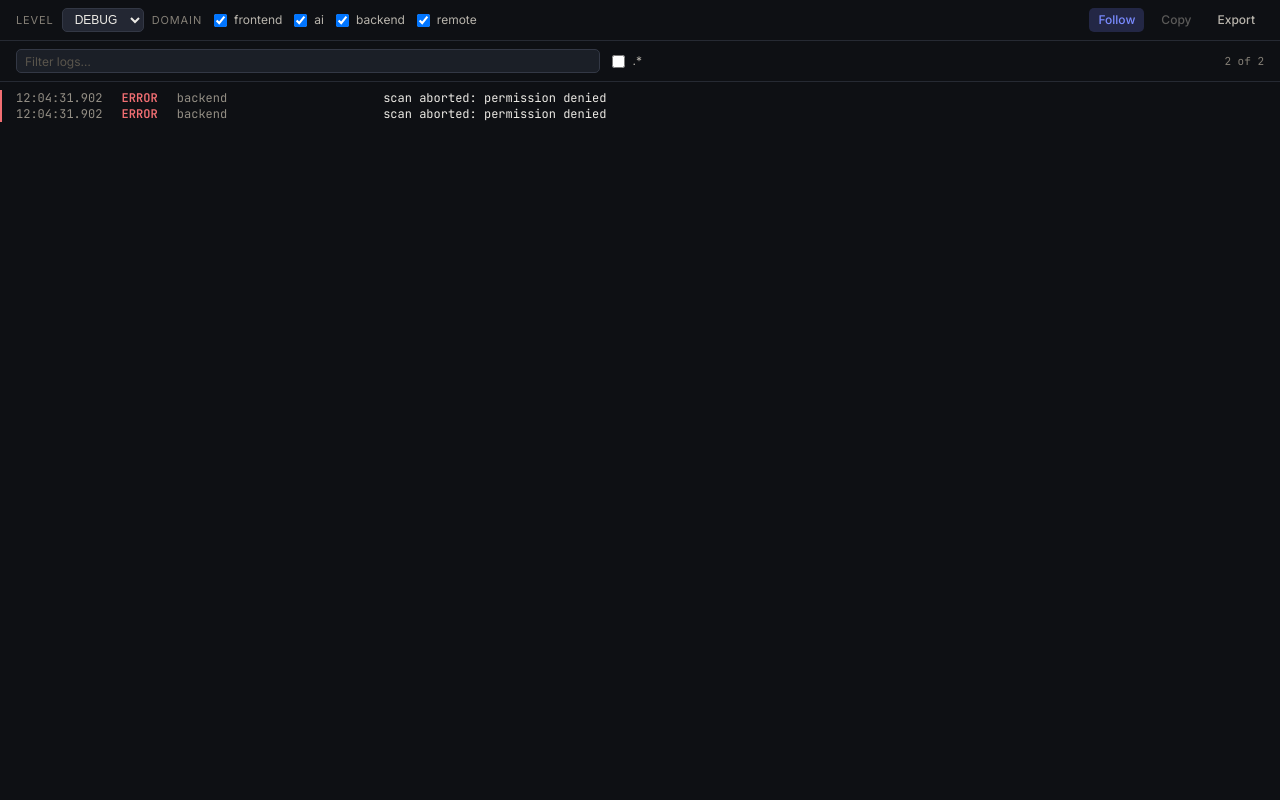
it: expanding a record (LOG-FR-04) › keeps any number of rows expanded at once, and collapses independently
Click the 1st button with class "logs__line" at (59, 98), box [0, 90, 1279, 106]
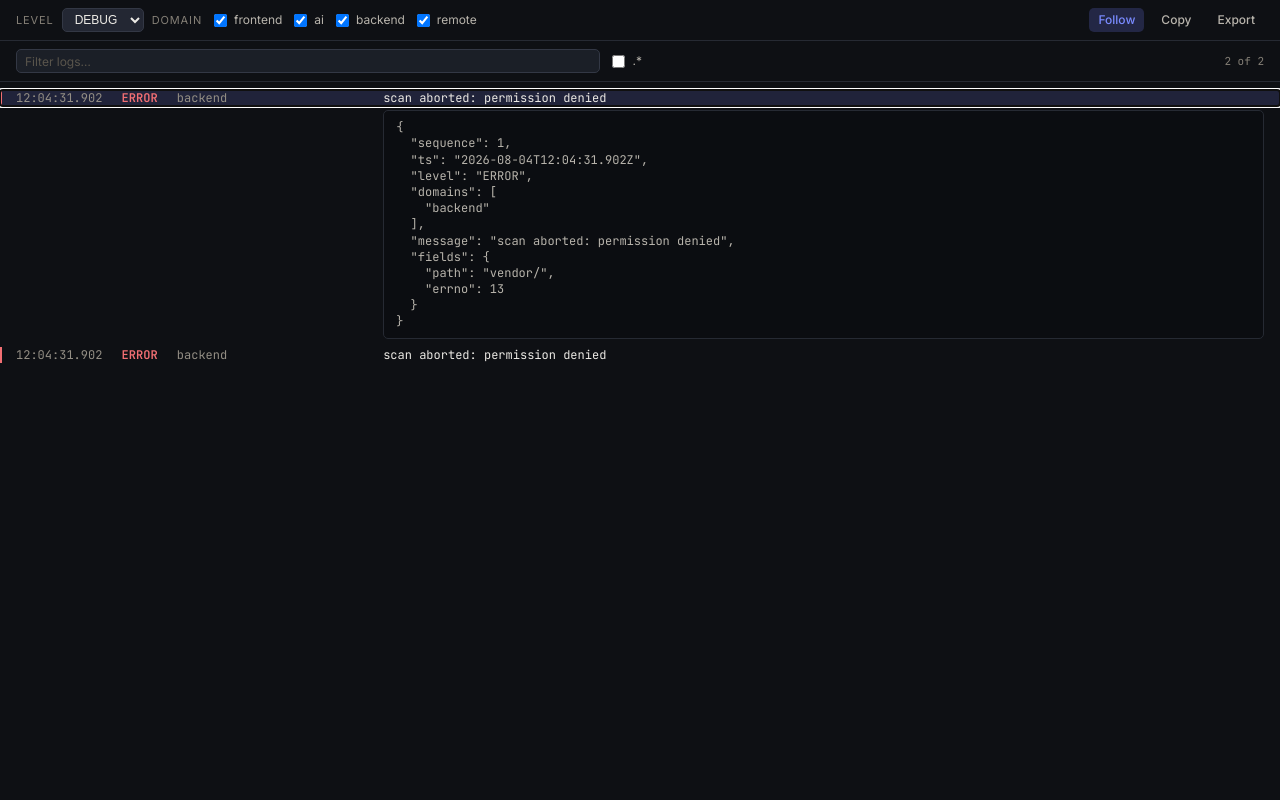
Click the 2nd button with class "logs__line" at (59, 355), box [0, 347, 1279, 363]
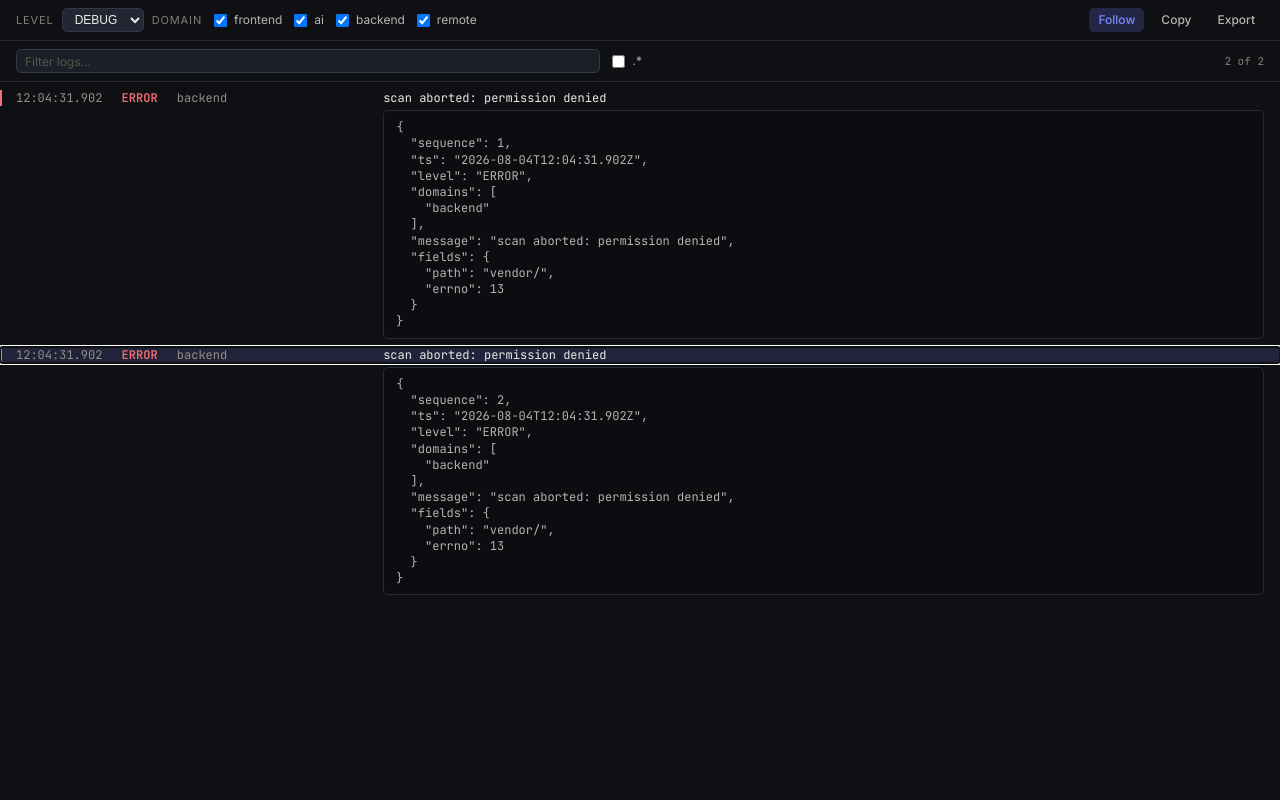
Check: the number of elements with test id "logs-json" is 2, box [383, 110, 1264, 339]; [383, 367, 1264, 595]
Click the 1st button with class "logs__line" at (59, 98), box [0, 90, 1279, 106]
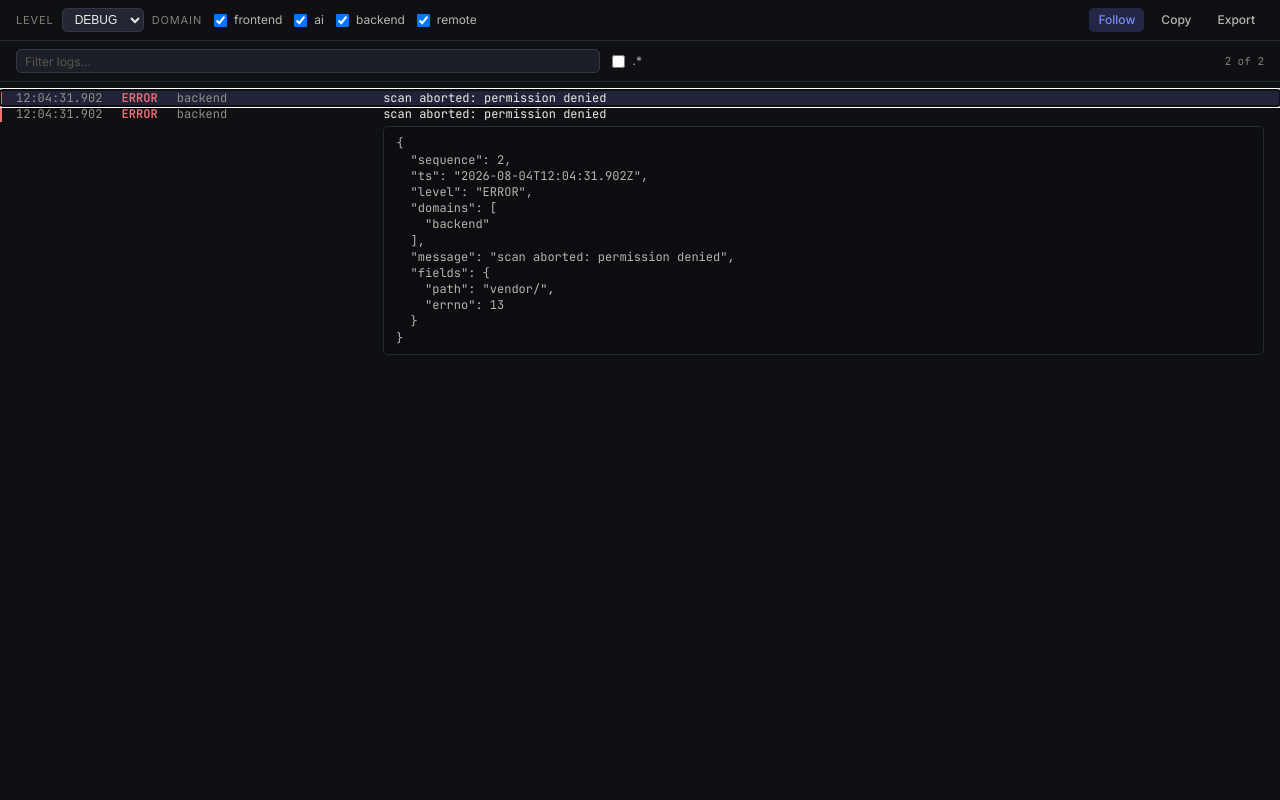
Check: the number of elements with test id "logs-json" is 1, box [383, 126, 1264, 355]
